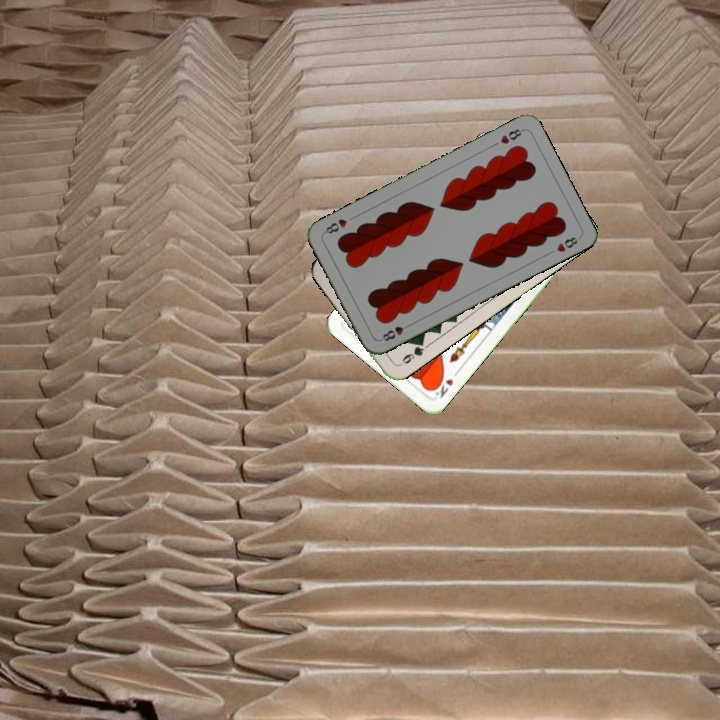G9: (394, 336, 427, 369)
H8: (376, 319, 414, 344), (496, 125, 526, 147)
HK: (429, 366, 462, 401)
